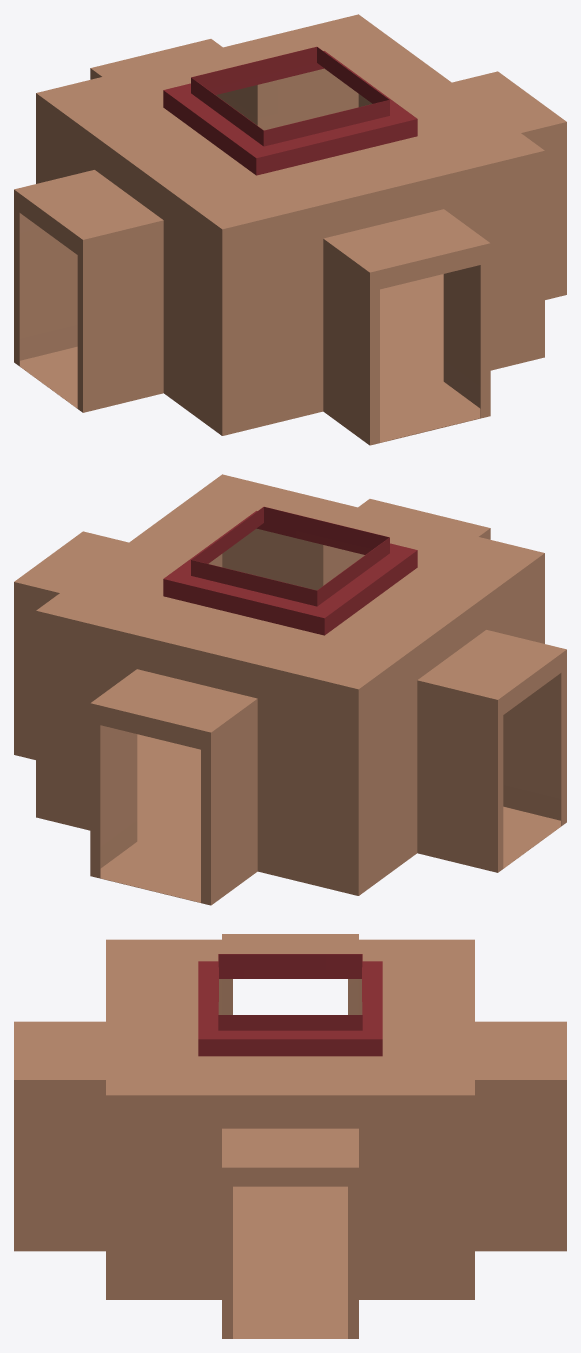
File: Room6.fbx
3 renders of one model, top to bottom at view 1: azimuth 30°, elevation 25°; view 2: azimuth 150°, elevation 25°; view 3: azimuth 270°, elevation 25°, orthographic.
Visible parts, largest first — view 1: Cube; view 2: Cube; view 3: Cube.
Part boxes in pixels (x1,y1,x2,y2): Cube: [14, 14, 566, 445]; Cube: [14, 474, 566, 905]; Cube: [14, 934, 566, 1338].
Size of the model in its own units: 12000 by 5687 by 12000.
